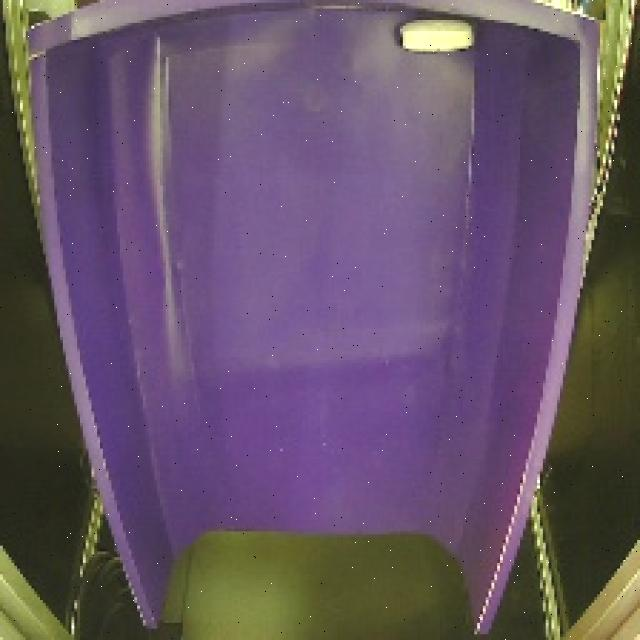small: (390, 13, 480, 55)
